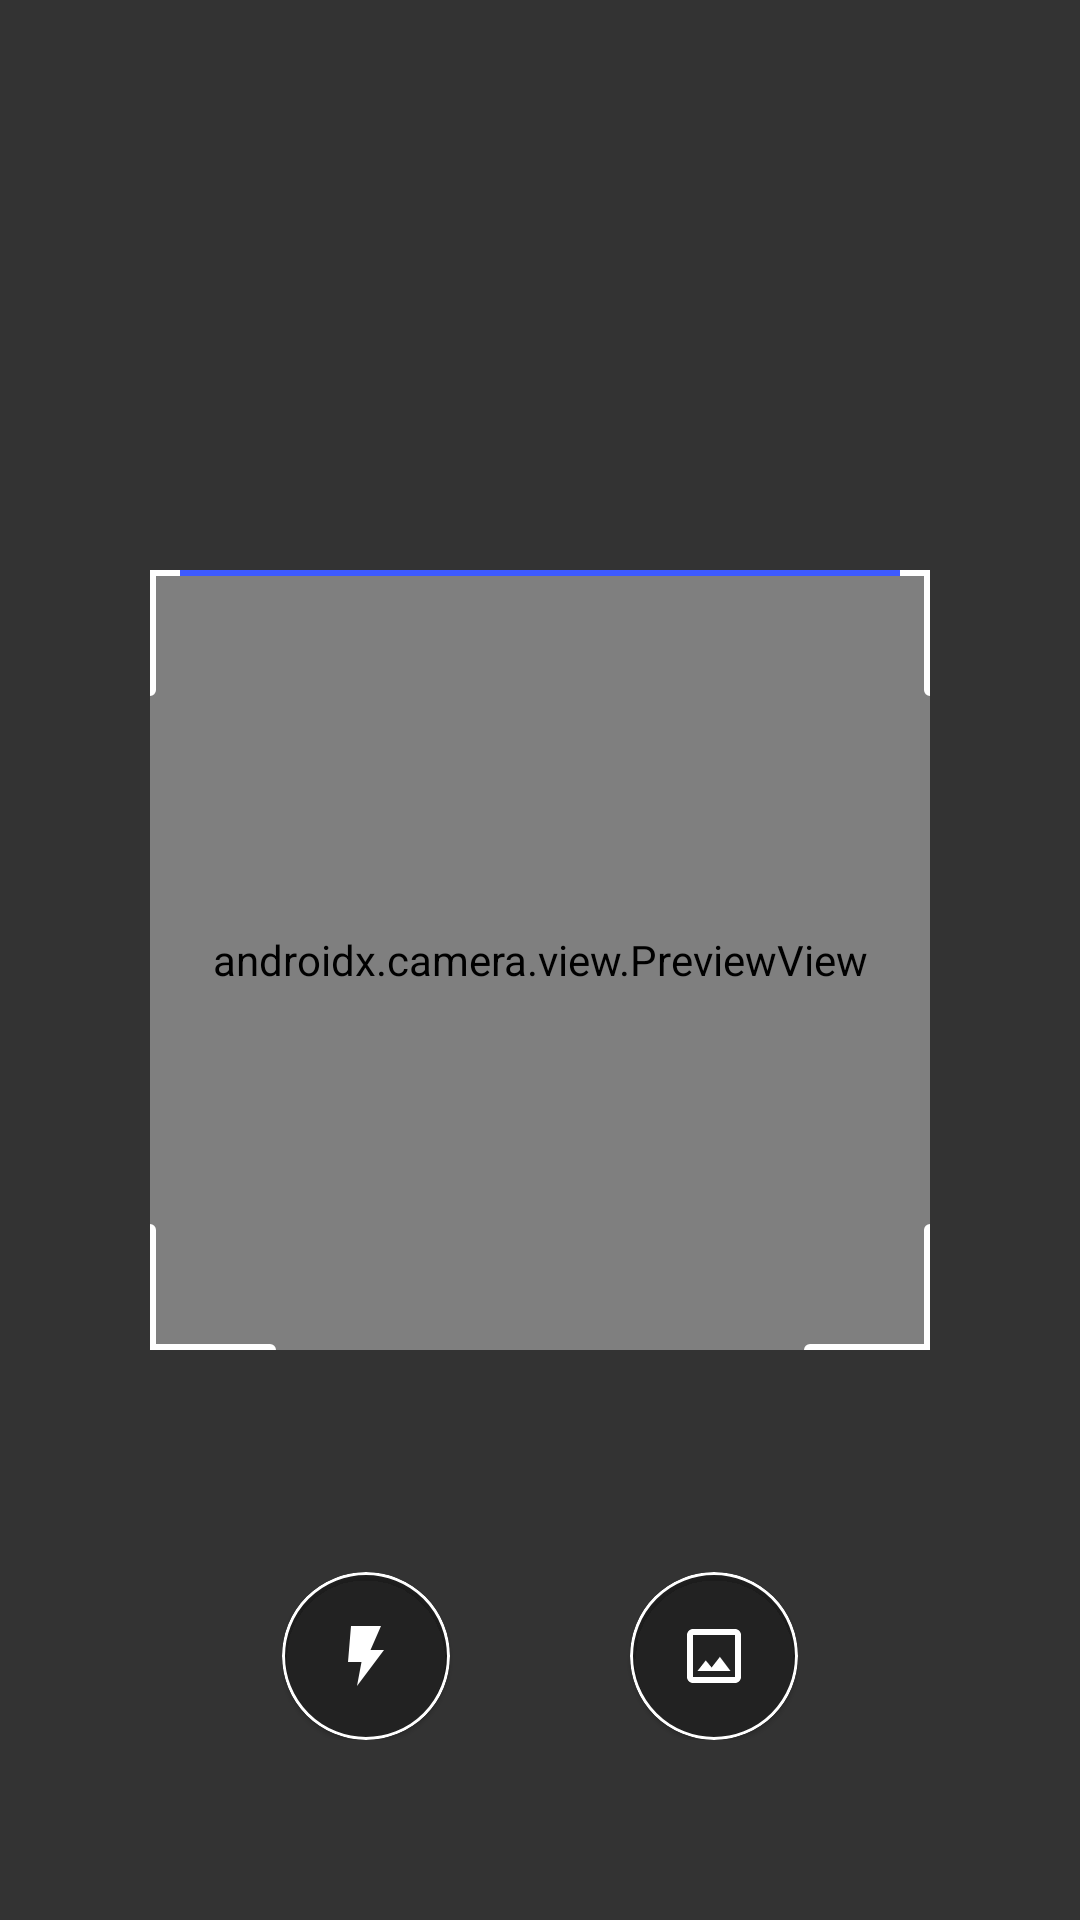

Point at icon controls on the screen. Image size 1080px x 1920px, points as (x,y).
flash: (366,1656)
gallery: (714,1656)
